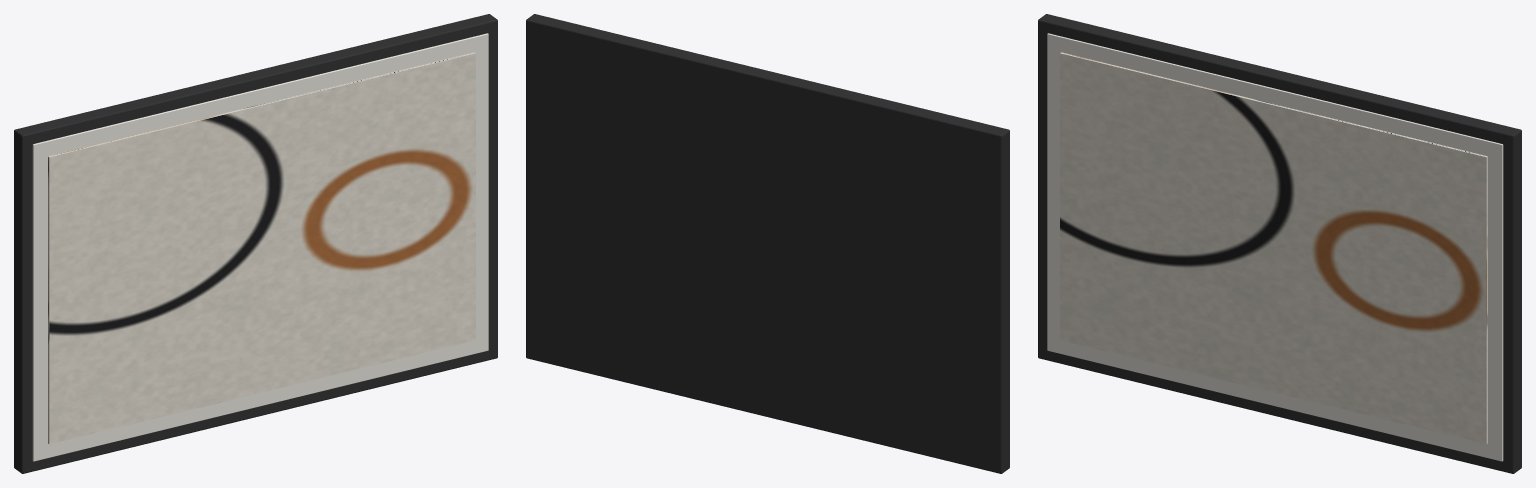
The model's file is dining_art.glb.
The picture shows the model from 3 angles, left to right: view 1: azimuth 30°, elevation 25°; view 2: azimuth 150°, elevation 25°; view 3: azimuth 330°, elevation 25°; orthographic projection.
Visible parts, largest first — view 1: dining_art; view 2: dining_art; view 3: dining_art.
Boxes of the visible parts, bbox=[...] form: dining_art: bbox=[14, 14, 497, 473]; dining_art: bbox=[526, 14, 1009, 473]; dining_art: bbox=[1038, 14, 1521, 473].
Size of the model in its own units: 1.25 by 0.85 by 0.05.
Materials: 3 (1 with a texture image).
